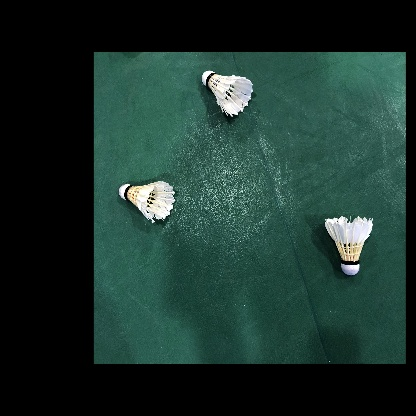ball_single: (325, 216, 373, 275), (119, 181, 175, 223), (202, 71, 253, 117)
